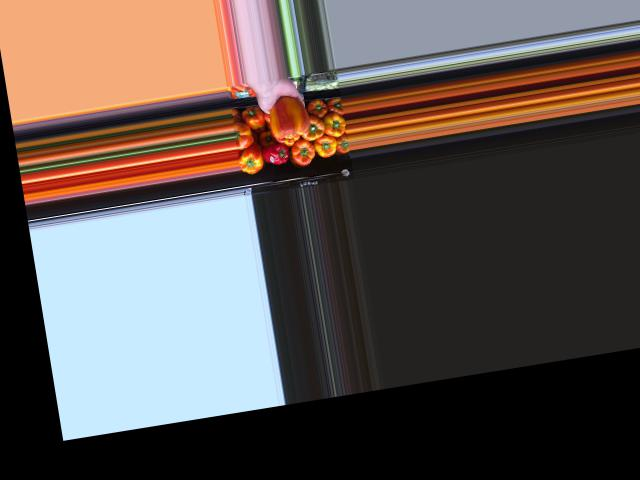bell_pepper: (239, 107, 268, 131)
